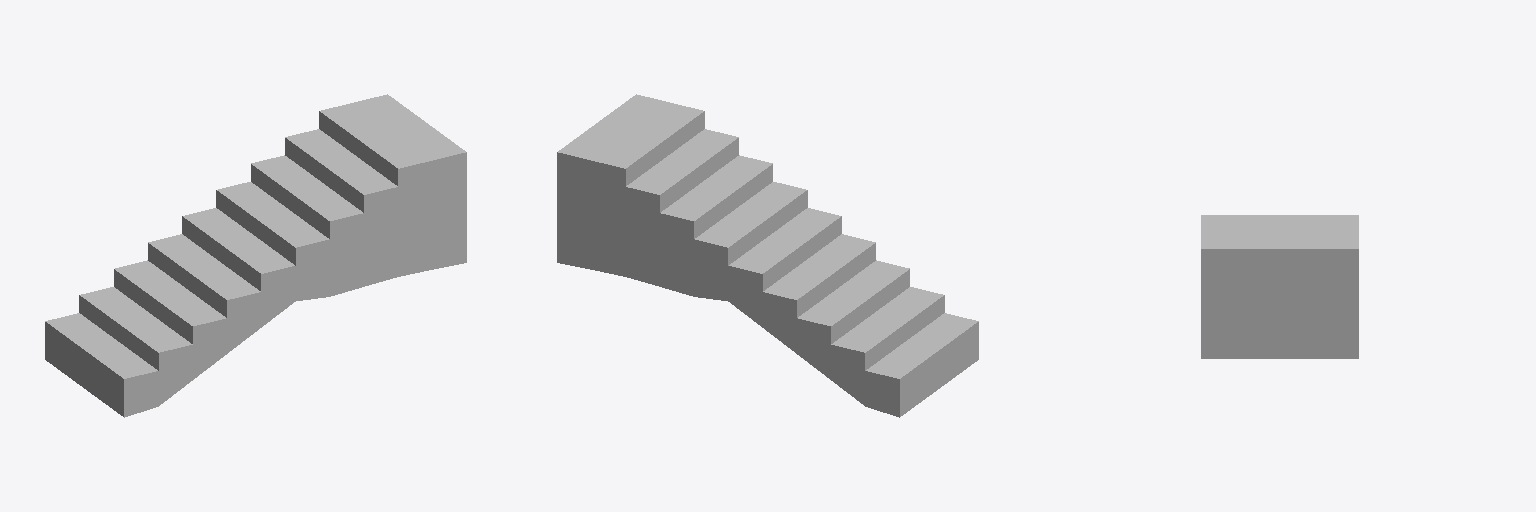
The model's file is Stairs (97).obj.
3 views of the same model, side by side, from view 1: azimuth 30°, elevation 25°; view 2: azimuth 150°, elevation 25°; view 3: azimuth 270°, elevation 25° (orthographic).
Parts seen in each view (by area): view 1: Stairs (97); view 2: Stairs (97); view 3: Stairs (97).
Part boxes in pixels (left/top/right/bottom): Stairs (97): left=45, top=94, right=466, bottom=417; Stairs (97): left=557, top=94, right=978, bottom=417; Stairs (97): left=1201, top=215, right=1358, bottom=358.
Size of the model in its own units: 5 by 2.54 by 2.